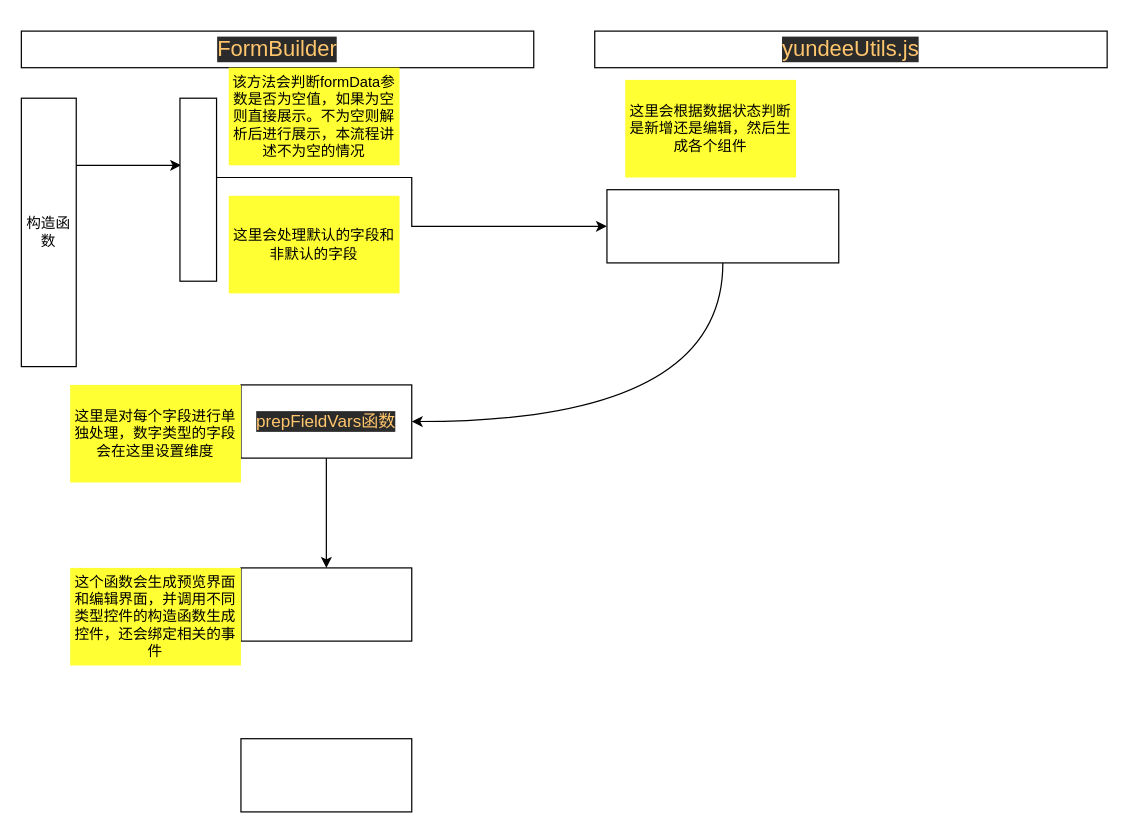
This 1129x833 diagram has some shape labels left out. Each missing label, with the centre of its shape:
advFields函数: the point at 326,774
appendNewField函数: the point at 326,604
createRowDefault函数: the point at 722,225
loadFields: the point at 198,189
